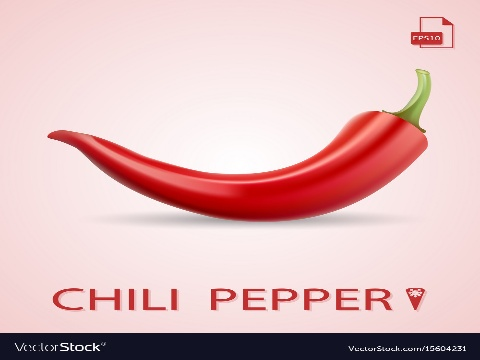Chilli: (33, 57, 454, 243)
